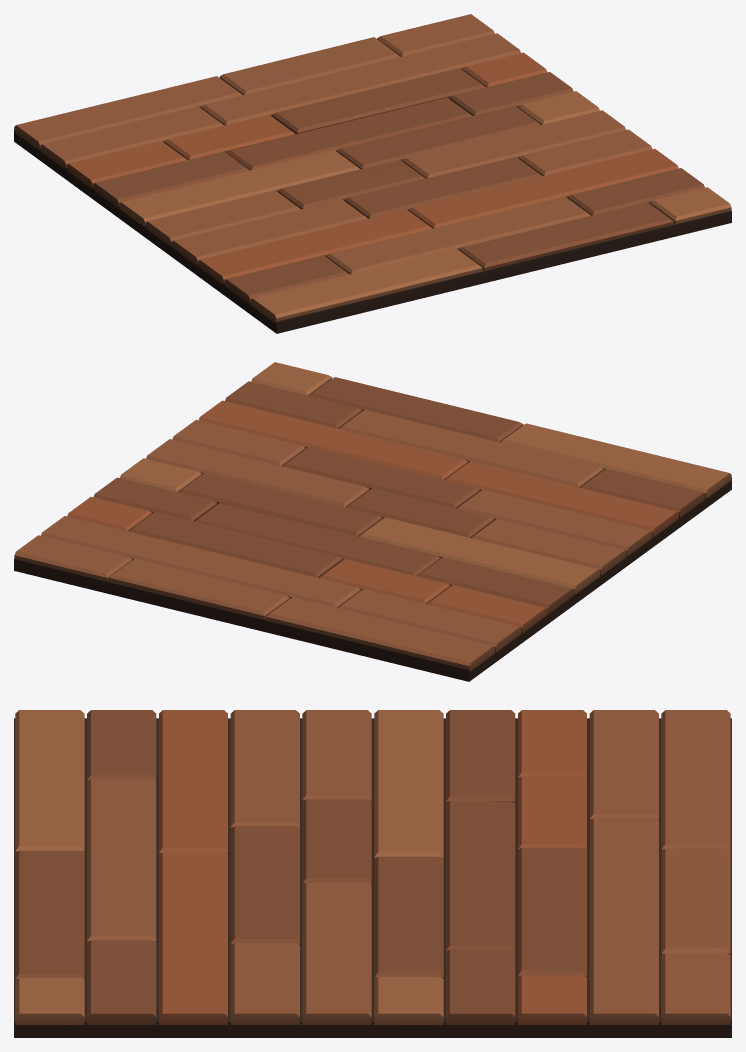
Rendered from floor_planks_large_D.glb.
3 views of the same model, one above another, from view 1: azimuth 30°, elevation 25°; view 2: azimuth 150°, elevation 25°; view 3: azimuth 270°, elevation 25° (orthographic). The views are drawn at different scales.
Visible parts, largest first — view 1: Item; view 2: Item; view 3: Item.
Boxes of the visible parts, box(x1,y1,x2,y2) form: Item: box(14, 14, 731, 333); Item: box(14, 362, 731, 681); Item: box(14, 710, 731, 1037).
Size of the model in its own units: 4 by 0.1556 by 4.
1 material, 1 textured.
